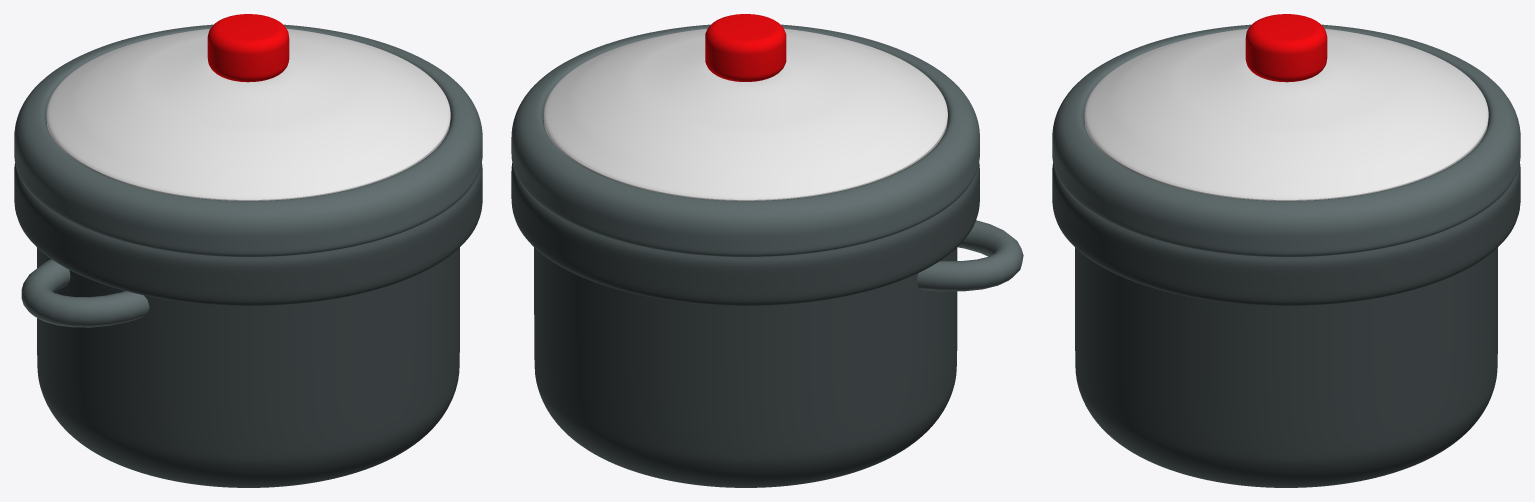
The model's file is pot.glb.
The picture shows the model from 3 angles, left to right: view 1: azimuth 30°, elevation 25°; view 2: azimuth 150°, elevation 25°; view 3: azimuth 270°, elevation 25°; orthographic projection.
Visible parts, largest first — view 1: Cylinder.005; view 2: Cylinder.005; view 3: Cylinder.005.
Boxes of the visible parts, bbox=[...] form: Cylinder.005: bbox=[14, 14, 482, 487]; Cylinder.005: bbox=[511, 14, 1023, 487]; Cylinder.005: bbox=[1052, 14, 1520, 487].
Bounding box in the file's own units: 1.65 × 1.38 × 1.49.
